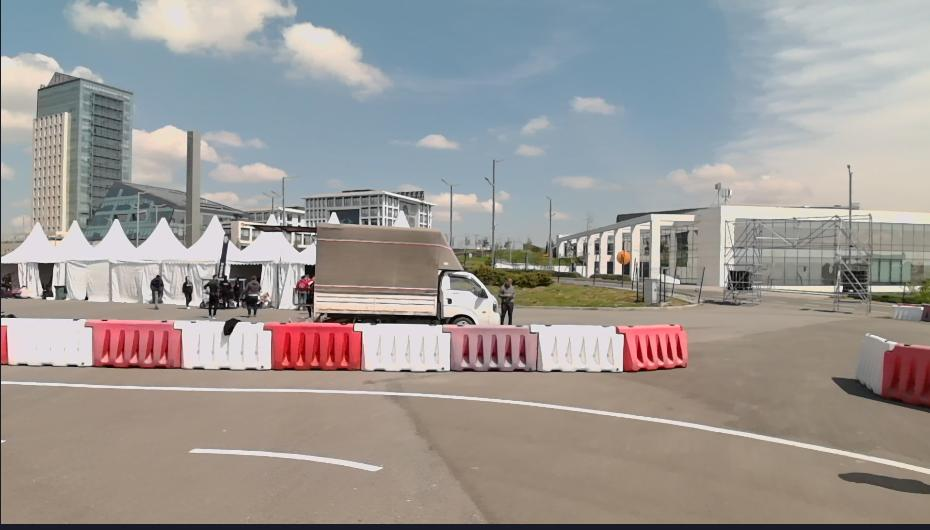nesne: (0, 376, 928, 525), (0, 377, 927, 525), (0, 377, 928, 474), (0, 436, 494, 523), (0, 316, 687, 373), (246, 221, 500, 324), (189, 444, 381, 470), (2, 317, 91, 366), (270, 322, 359, 371), (533, 323, 622, 372), (180, 322, 270, 369), (89, 321, 180, 366), (448, 323, 537, 369), (358, 326, 450, 370), (619, 322, 686, 369), (877, 341, 927, 401), (855, 333, 894, 395), (199, 271, 221, 319), (288, 275, 313, 310), (243, 272, 261, 317), (499, 275, 514, 324), (149, 273, 164, 310), (180, 274, 193, 306), (221, 316, 240, 333), (52, 285, 67, 299)
